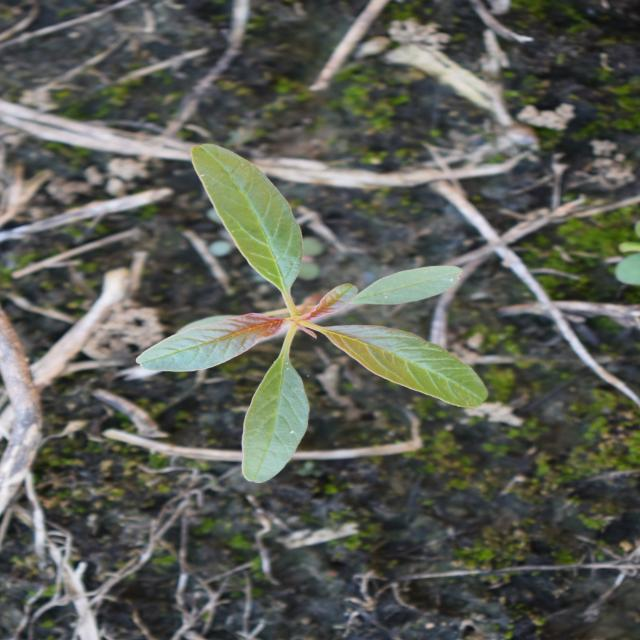Waterhemp: (132, 140, 493, 485)
